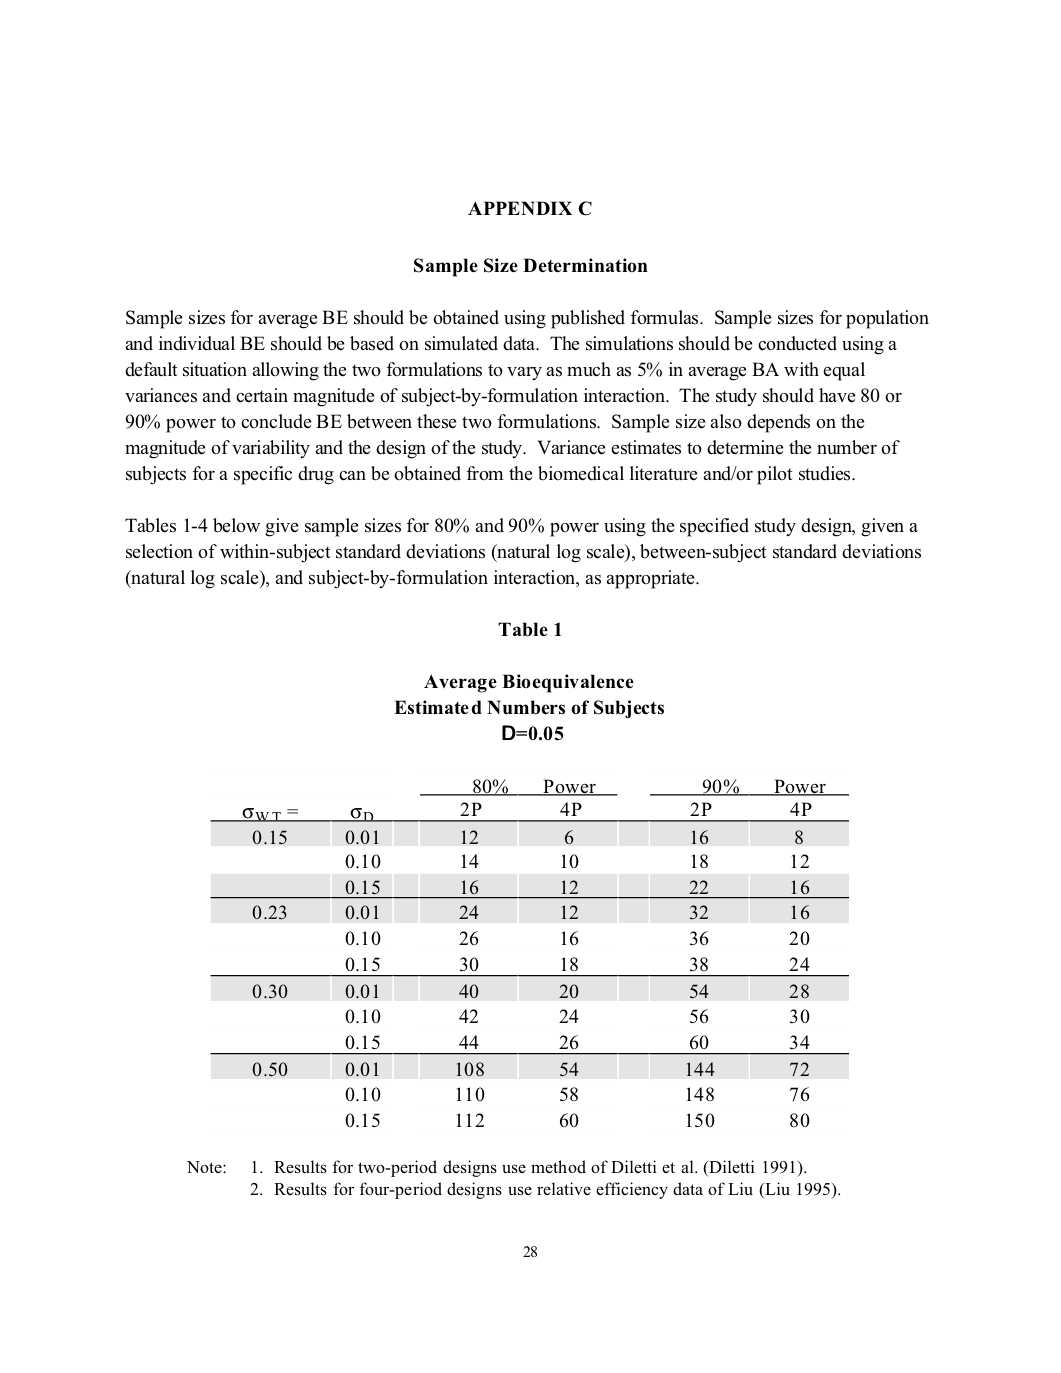Table: (210, 779, 848, 1127)
